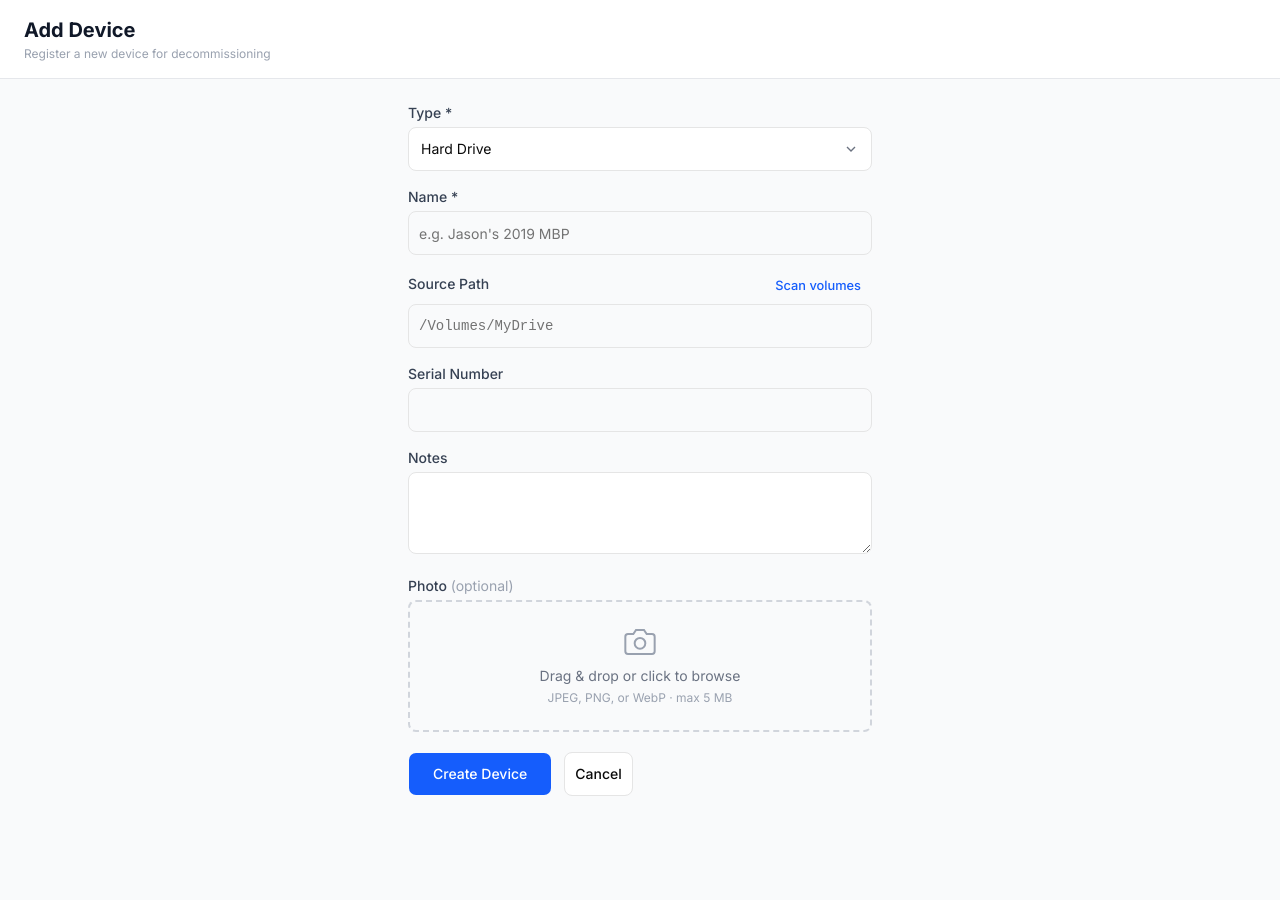
Test case: AddDevice form › shows error when detectIos throws
Select "iPhone" in the dropdown. click: (640, 149)
box: [408,127,872,171]
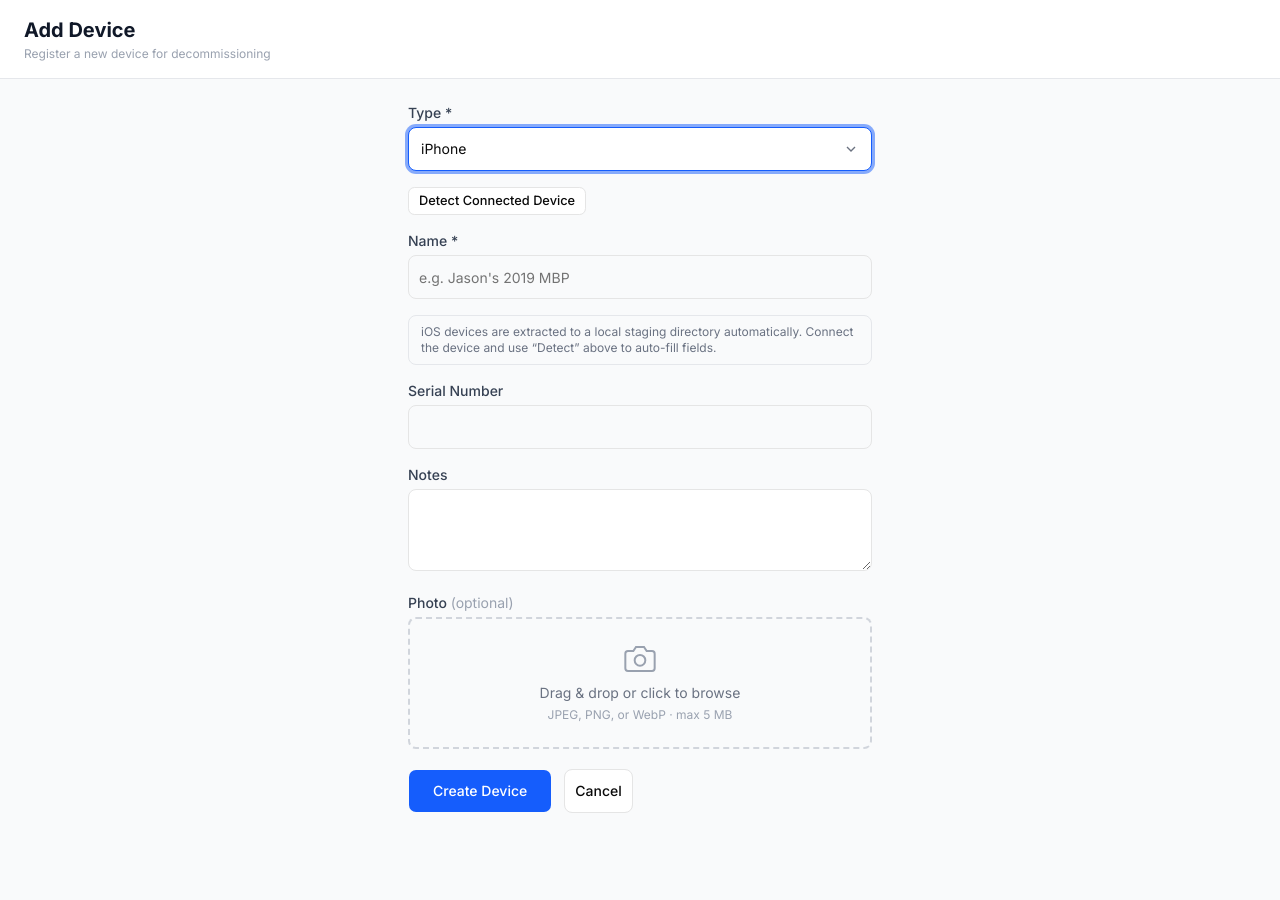
Click the button "Detect Connected Device". click: (497, 201)
box: [408,187,586,215]
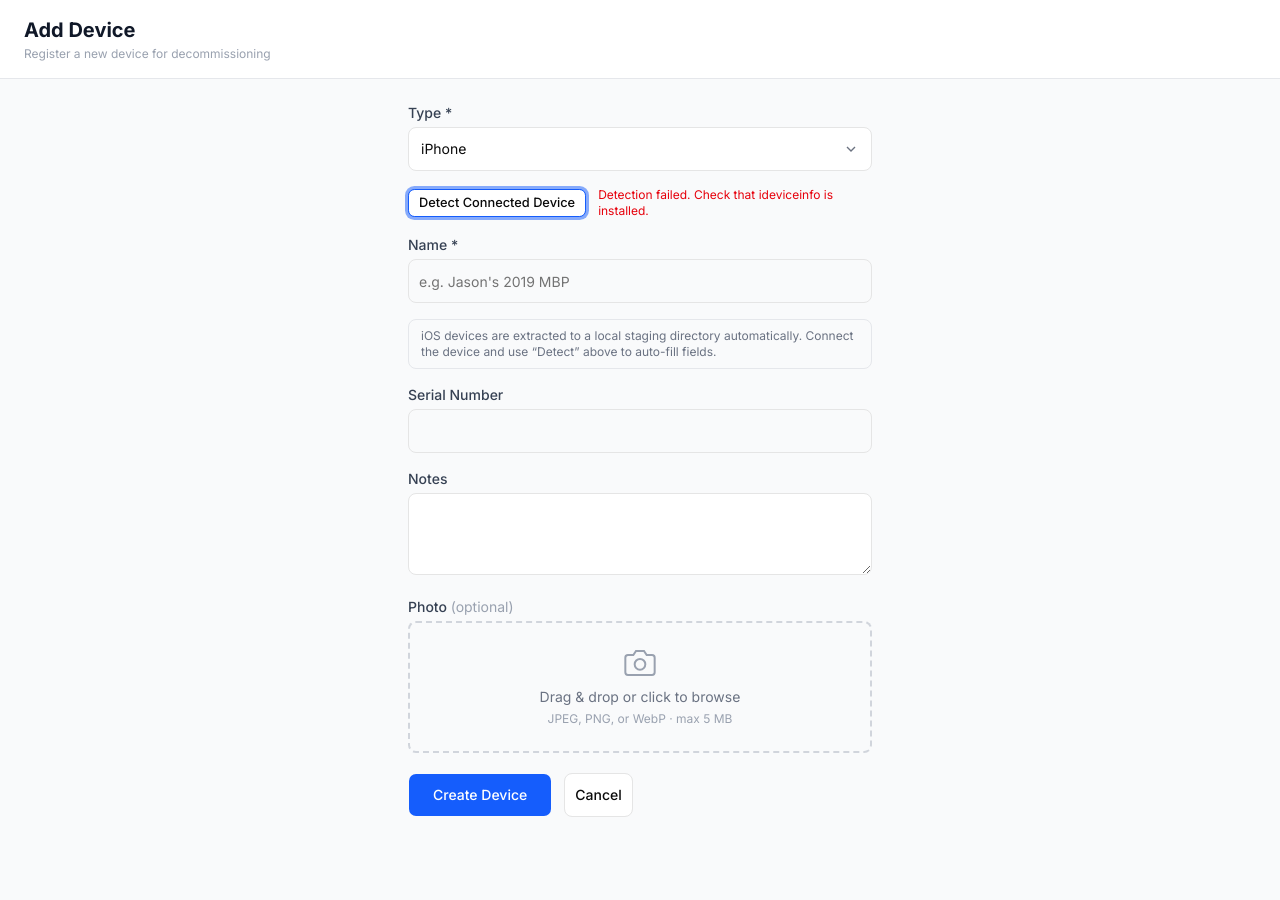
Expected: the text "Detection failed. Check that ideviceinfo is installed." is shown, [598,187,872,219]
